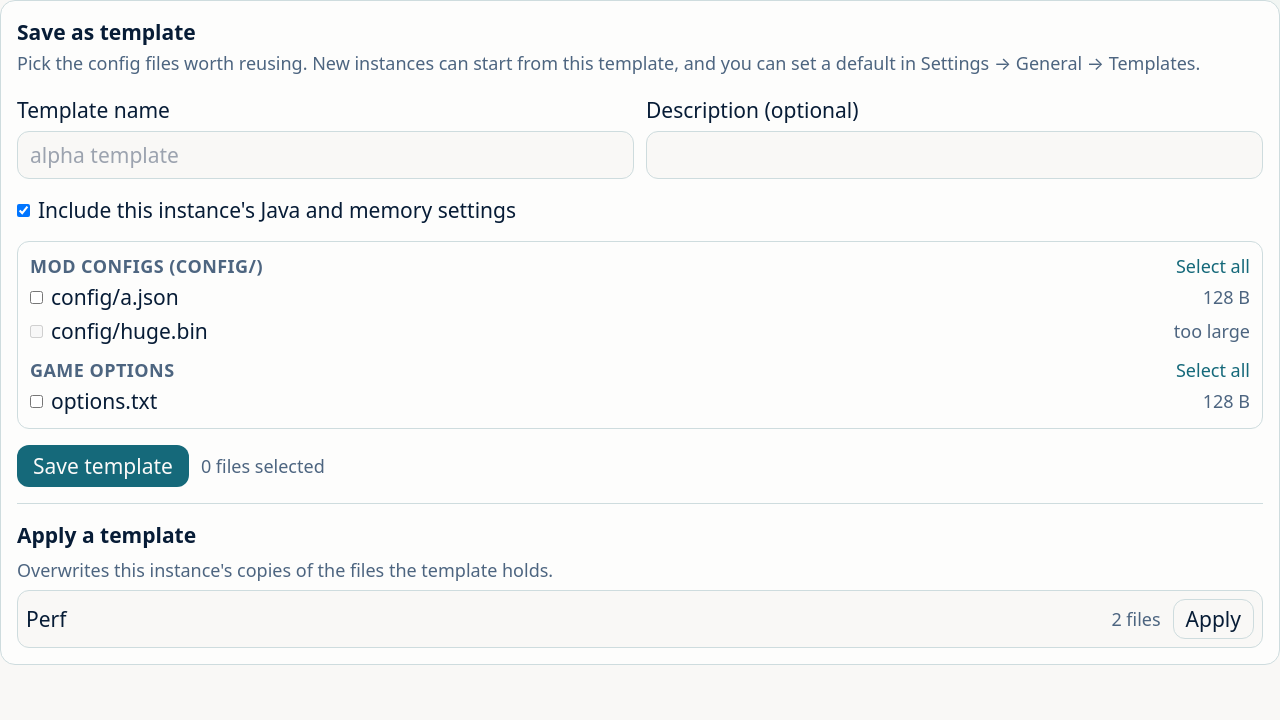
Scenario: InstanceTemplatePanel › reports how many files an apply actually wrote
Click the button "Apply".
click(1213, 619)  # box 1173,599 -> 1254,639
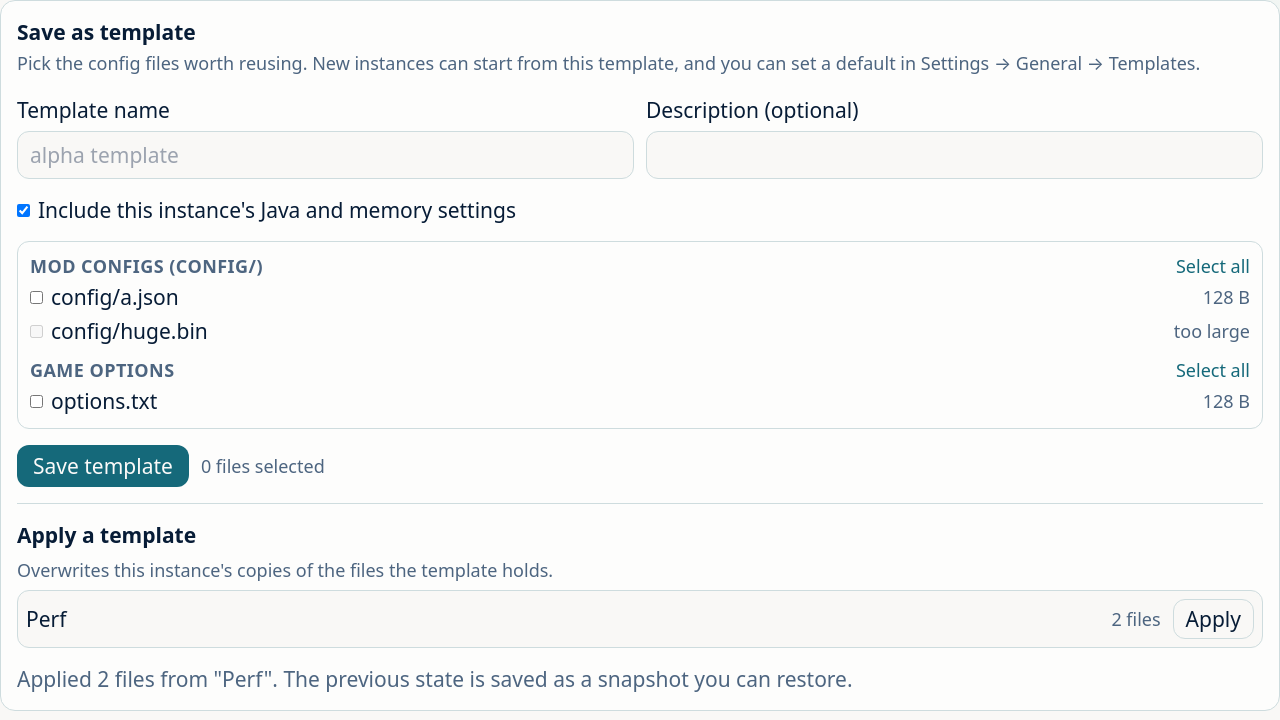
Now the text "Applied 2 files from \"Perf\"." is shown, box 17,665 -> 853,693
